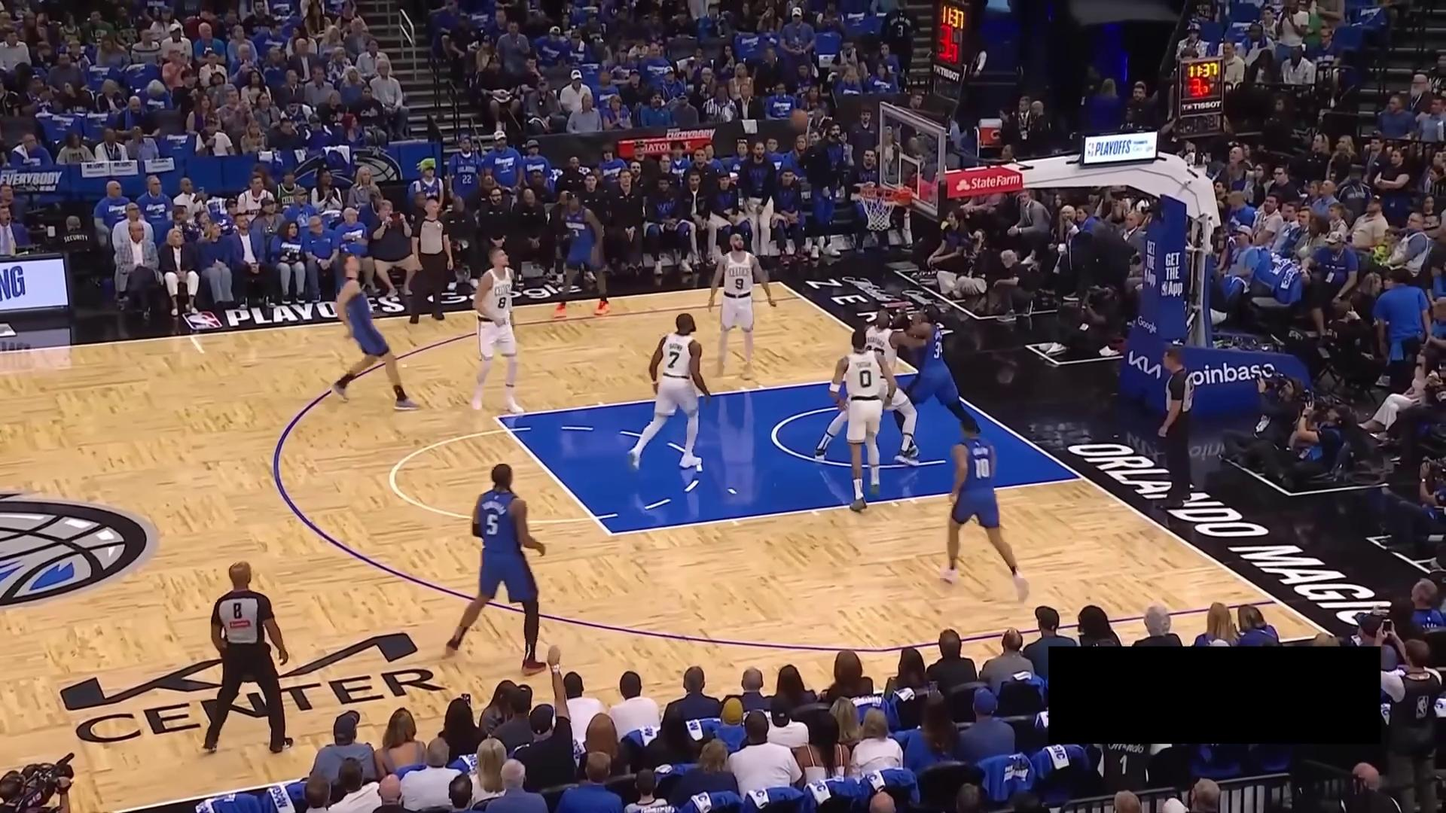ball: (790, 108, 808, 128)
number: (975, 457, 990, 479), (487, 513, 499, 536), (859, 369, 873, 388), (932, 340, 945, 360), (667, 351, 679, 369), (734, 276, 745, 291), (497, 295, 507, 309), (572, 227, 580, 239)
player: (444, 463, 548, 677), (813, 306, 925, 465), (939, 414, 1031, 604), (330, 251, 423, 413), (627, 312, 712, 473), (893, 304, 982, 457), (828, 328, 897, 512), (706, 232, 777, 382), (468, 247, 526, 416), (551, 189, 612, 319)
referee: (203, 560, 293, 754), (1155, 346, 1196, 509), (408, 196, 454, 324)
rim: (854, 187, 900, 201)
